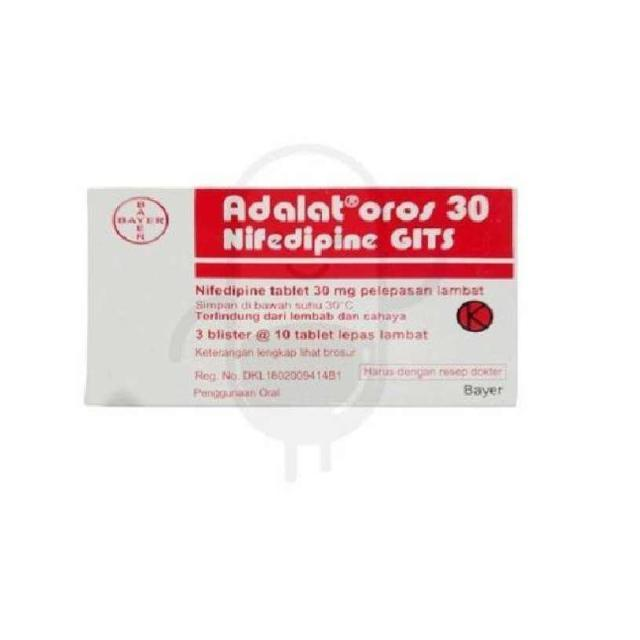drug-name: (221, 193, 492, 225)
